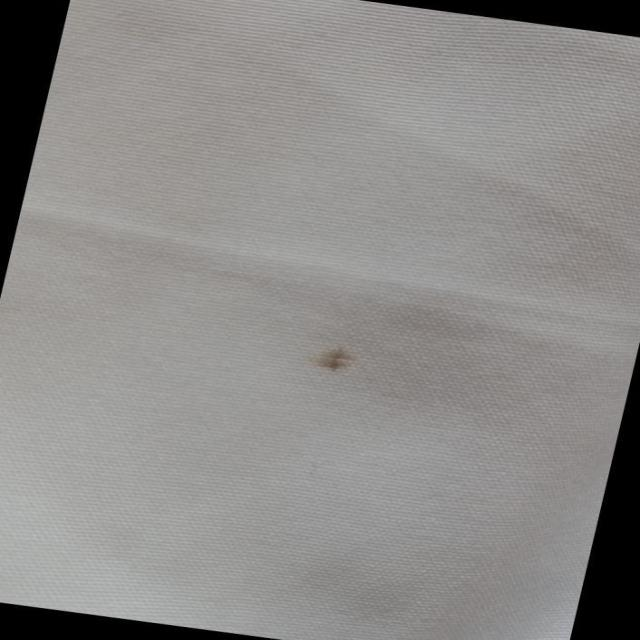stain: (299, 332, 374, 384)
